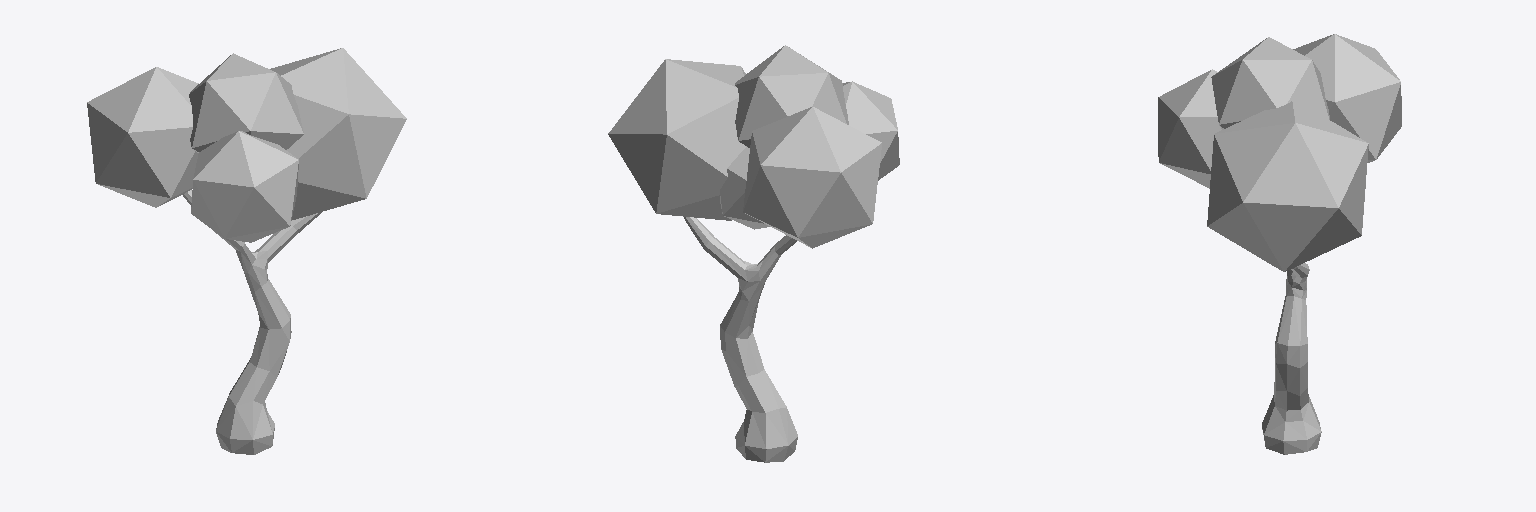
File: tree2.obj
3 renders of one model, left to right at view 1: azimuth 30°, elevation 25°; view 2: azimuth 150°, elevation 25°; view 3: azimuth 270°, elevation 25°, orthographic.
Visible parts, largest first — view 1: Object_88; view 2: Object_88; view 3: Object_88.
Boxes of the visible parts, x1=… form: Object_88: x1=87, y1=48, x2=406, y2=454; Object_88: x1=608, y1=45, x2=899, y2=462; Object_88: x1=1158, y1=34, x2=1401, y2=454.
Size of the model in its own units: 47.71 by 67.72 by 37.9.